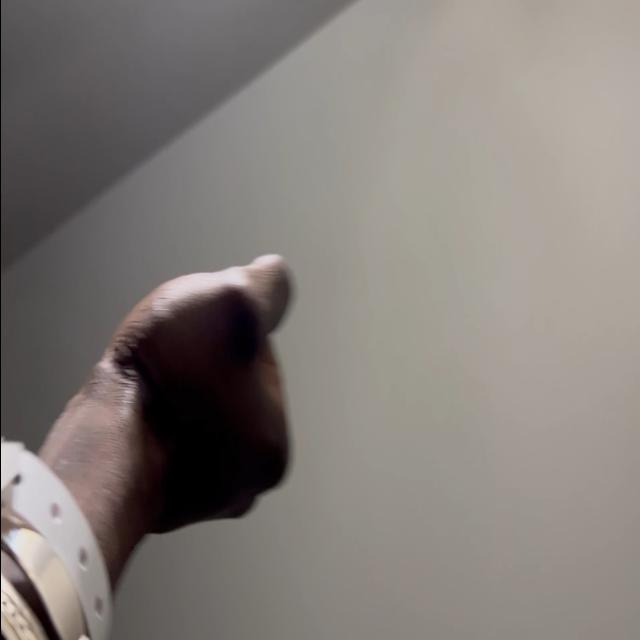Rock: (104, 252, 294, 538)
